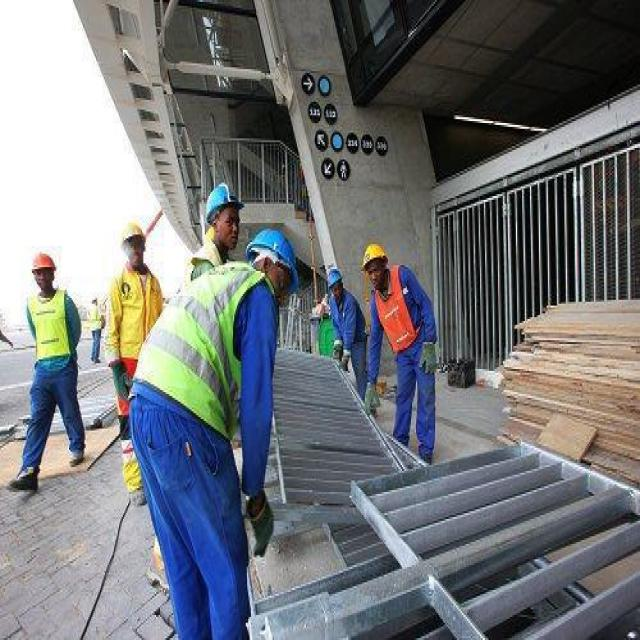head: (202, 177, 243, 254), (250, 223, 297, 290), (115, 211, 147, 275), (360, 238, 390, 296), (31, 248, 58, 296), (322, 267, 347, 306)
